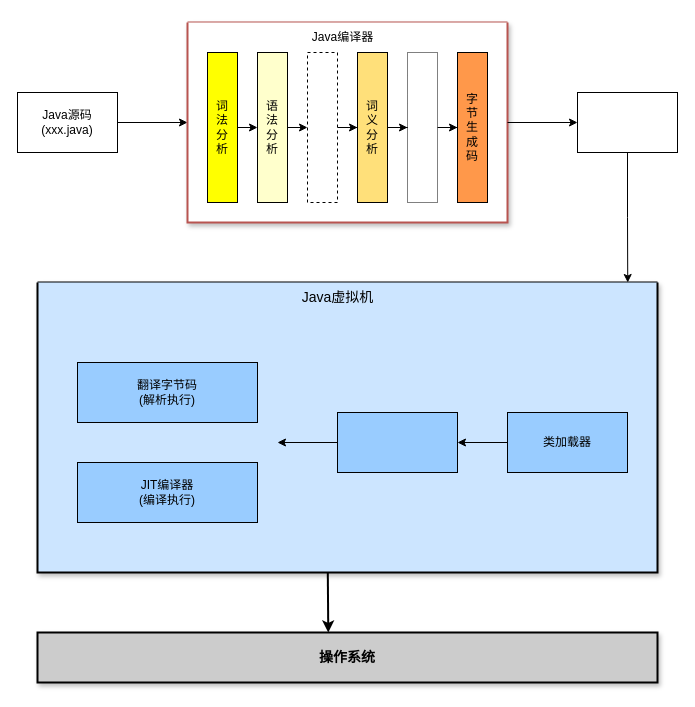
Some shapes in this 695 by 707 pixel diagram are drawn without their labels. Each missing label, with the centre of its shape:
"字节码 (xxx.class)" goes at point 627,122.
"字节码校验器" goes at point 397,442.
"注 释 抽 象 语 法 树" goes at point 422,127.
"语 法 \ 抽 象 语 法 树" goes at point 322,127.
